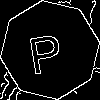P: (25, 25, 65, 75)
